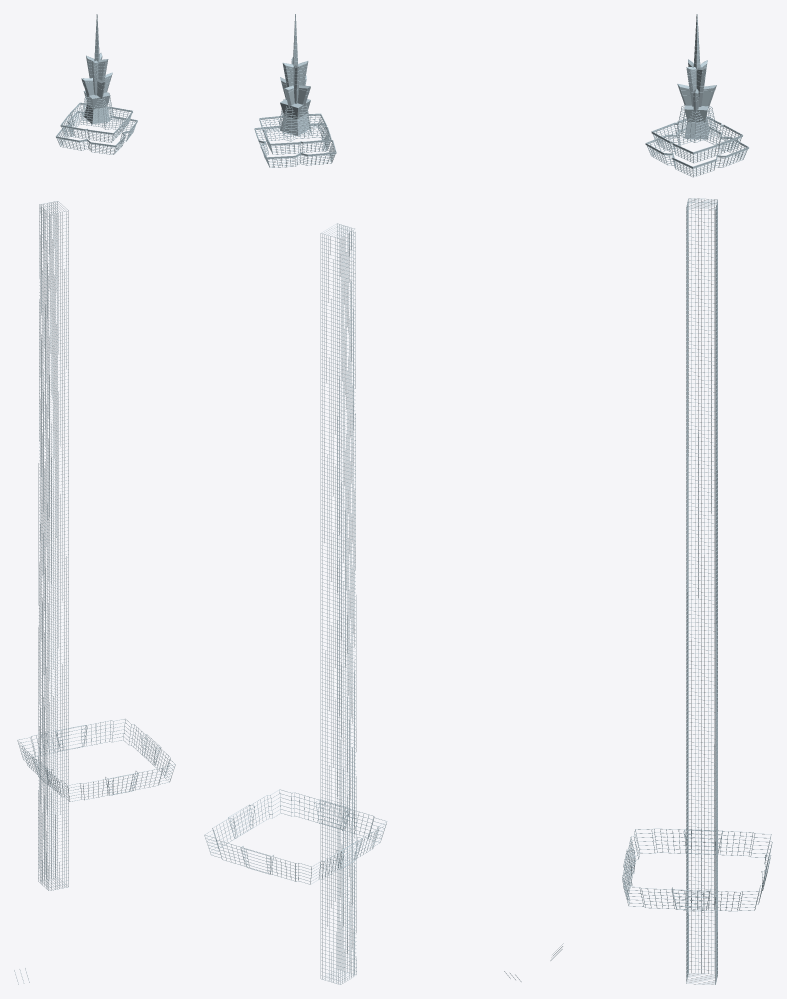
File: lujiazui-10.glb
3 renders of one model, left to right at view 1: azimuth 30°, elevation 25°; view 2: azimuth 150°, elevation 25°; view 3: azimuth 270°, elevation 25°, orthographic. The views are drawn at different scales.
Parts seen in each view (by area): view 1: source_2865_Mat3d66-1303573-2119-613_part0; view 2: source_2865_Mat3d66-1303573-2119-613_part0; view 3: source_2865_Mat3d66-1303573-2119-613_part0.
Part boxes in pixels (bbox=[...]): source_2865_Mat3d66-1303573-2119-613_part0: bbox=[14, 14, 175, 984]; source_2865_Mat3d66-1303573-2119-613_part0: bbox=[204, 14, 521, 984]; source_2865_Mat3d66-1303573-2119-613_part0: bbox=[550, 14, 772, 984].
Bounding box in the file's own units: 99.91 × 429 × 84.62.
